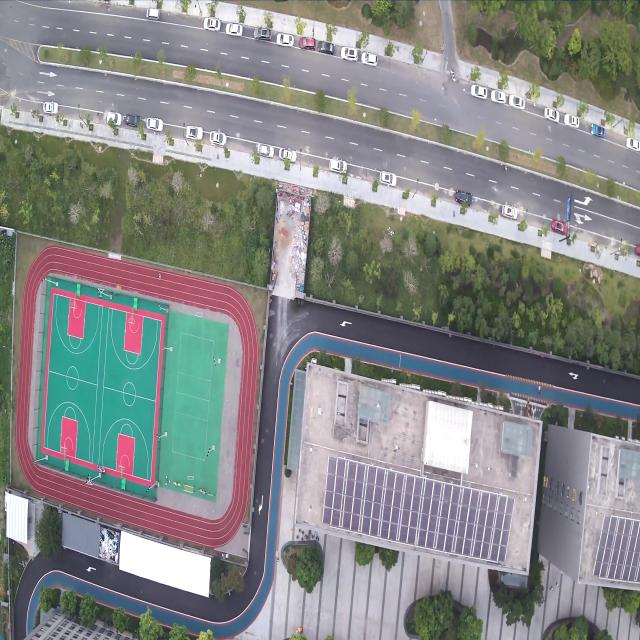UAV: (74, 273, 77, 282)
